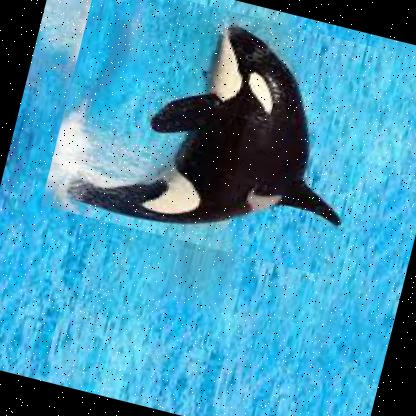killer_whale: (38, 0, 396, 282)
